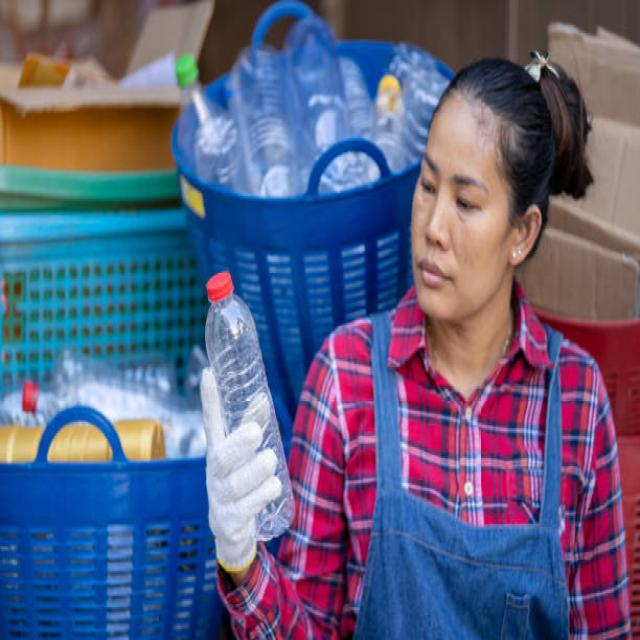plastic: (238, 76, 402, 170), (218, 296, 252, 398)
